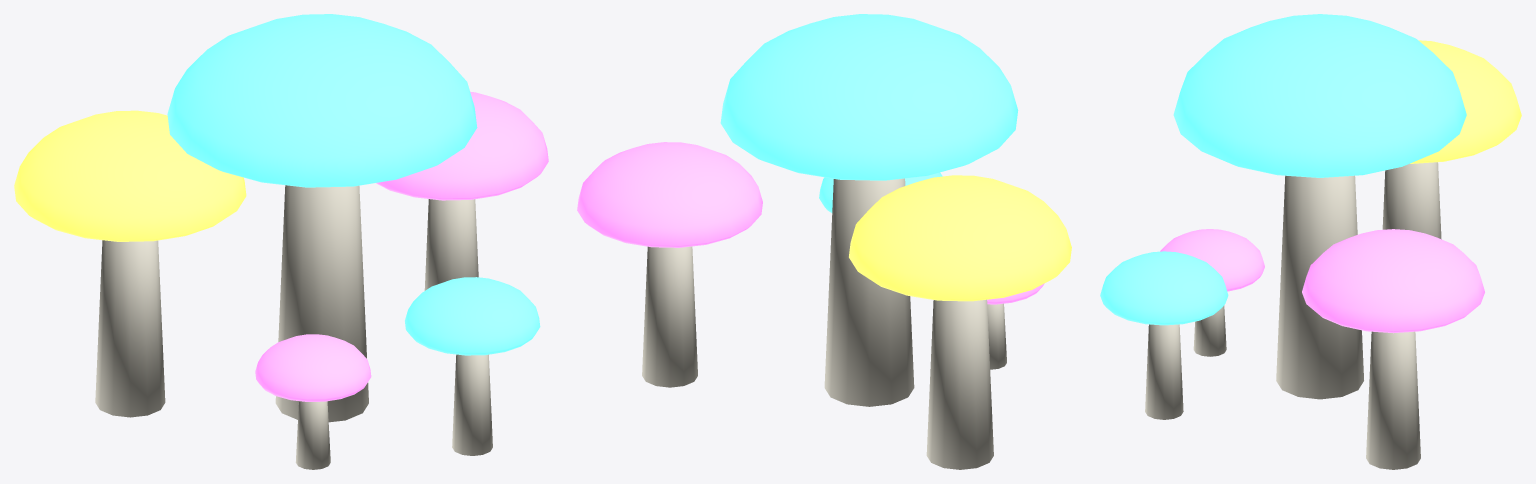
The model's file is Deco_Mushrooms.fbx.
3 views of the same model, side by side, from view 1: azimuth 30°, elevation 25°; view 2: azimuth 150°, elevation 25°; view 3: azimuth 270°, elevation 25° (orthographic). The views are drawn at different scales.
Visible parts, largest first — view 1: Deco_Mushrooms; view 2: Deco_Mushrooms; view 3: Deco_Mushrooms.
Part boxes in pixels (x1,y1,x2,y2): Deco_Mushrooms: [14, 14, 548, 469]; Deco_Mushrooms: [577, 14, 1071, 469]; Deco_Mushrooms: [1100, 14, 1521, 469].
Size of the model in its own units: 0.59 by 0.416 by 0.46.
